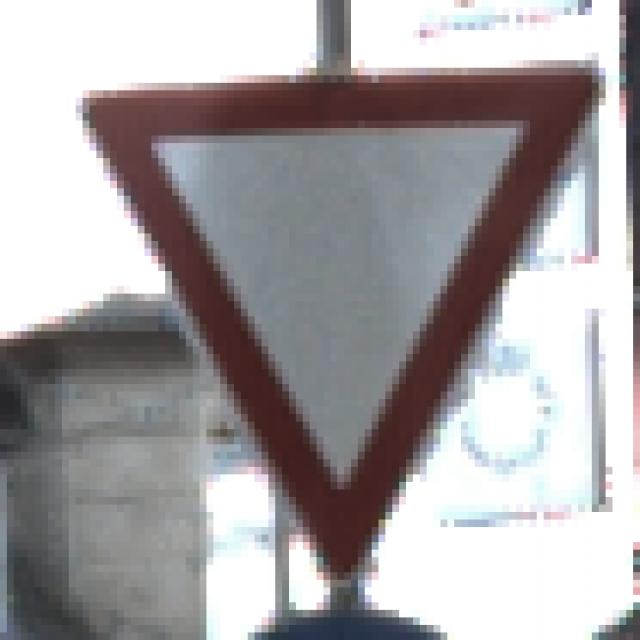Give Way: (63, 54, 586, 581)
